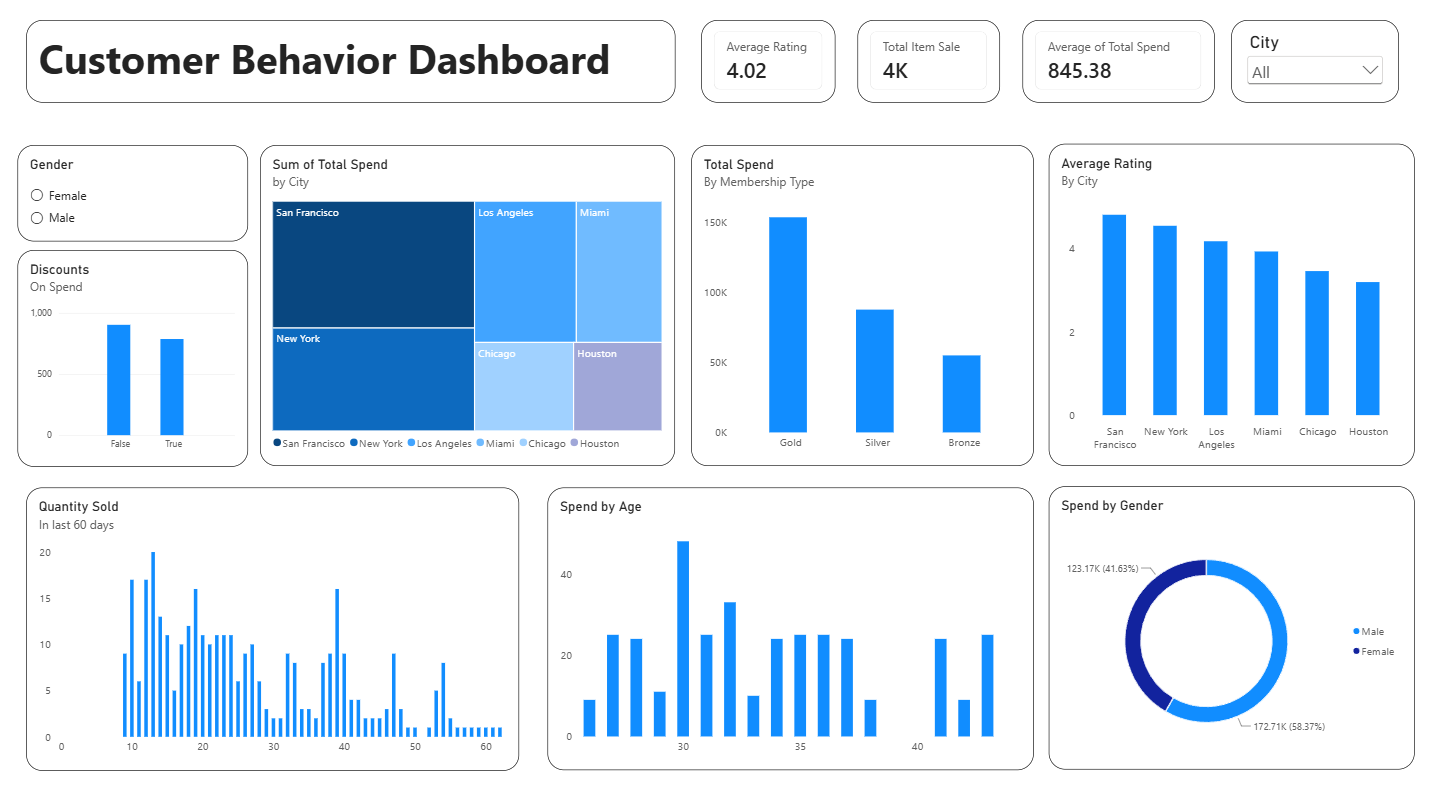

Layout of this report page (visuals, bound fields, positions):
{"tool":"powerbi","page":{"name":"Page 1","canvas":[1920,1080],"ordinal":0},"visuals":[{"type":"donutChart","title":"Spend by Gender","fields":{"Category":["E-commerce Customer Behavior - Sheet1.Gender"],"Y":["Sum(E-commerce Customer Behavior - Sheet1.Total Spend)"]},"box":[1400.7,663.4,488.6,378.2],"z":0},{"type":"clusteredColumnChart","title":"Spend by Age","fields":{"Y":["CountNonNull(E-commerce Customer Behavior - Sheet1.Total Spend)"],"Category":["E-commerce Customer Behavior - Sheet1.Age"]},"box":[731.4,664.6,649.5,377.4],"z":1000},{"type":"treemap","fields":{"Group":["E-commerce Customer Behavior - Sheet1.City"],"Values":["Sum(E-commerce Customer Behavior - Sheet1.Total Spend)"]},"box":[347.3,207.1,554.4,429.1],"z":2000},{"type":"columnChart","title":"Quantity Sold","fields":{"Category":["E-commerce Customer Behavior - Sheet1.Days Since Last Purchase"],"Y":["CountNonNull(E-commerce Customer Behavior - Sheet1.Items Purchased)"]},"box":[34.4,665.2,658.7,378.2],"z":3000},{"type":"listSlicer","fields":{"Values":["E-commerce Customer Behavior - Sheet1.Gender"]},"box":[23.5,206.3,307.6,128.5],"z":4000},{"type":"textbox","box":[35.1,40.1,813.2,110.2],"z":6000},{"type":"lineStackedColumnComboChart","title":"Total Spend ","fields":{"Category":["E-commerce Customer Behavior - Sheet1.Membership Type"],"Y":["Sum(E-commerce Customer Behavior - Sheet1.Total Spend)"]},"box":[923.4,207.1,457.5,429.1],"z":7000},{"type":"columnChart","title":"Average Rating","fields":{"Category":["E-commerce Customer Behavior - Sheet1.City"],"Y":["Avg(E-commerce Customer Behavior - Sheet1.Average Rating)"]},"box":[1400.7,205.6,488.6,430.7],"z":7001},{"type":"cardVisual","fields":{"Data":["Avg(E-commerce Customer Behavior - Sheet1.Average Rating)"]},"box":[937.4,39.8,179.2,110.4],"z":7002},{"type":"cardVisual","fields":{"Data":["Sum(E-commerce Customer Behavior - Sheet1.Items Purchased)"]},"box":[1145.5,39.8,190,110.4],"z":7003},{"type":"cardVisual","fields":{"Data":["Avg(E-commerce Customer Behavior - Sheet1.Total Spend)"]},"box":[1366.3,39.8,257,110.4],"z":7004},{"type":"slicer","fields":{"Values":["E-commerce Customer Behavior - Sheet1.City"]},"box":[1645,39.8,224.4,110.4],"z":7005},{"type":"columnChart","title":"Discounts","fields":{"Category":["E-commerce Customer Behavior - Sheet1.Discount Applied"],"Y":["Avg(E-commerce Customer Behavior - Sheet1.Total Spend)"]},"box":[23.5,347.5,307.6,289.5],"z":7006}]}

Visuals, with their boxes in screenshot pixels (x1, y1, x2, y2), scaled from the page's 1920x1080 canvas onto the 1436x797 screenshot:
"Spend by Gender" donutChart: (1048,490,1413,769)
"Spend by Age" clusteredColumnChart: (547,490,1033,769)
treemap - E-commerce Customer Behavior - Sheet1.City x Sum(E-commerce Customer Behavior - Sheet1.Total Spend): (260,153,674,469)
"Quantity Sold" columnChart: (26,491,518,770)
listSlicer - E-commerce Customer Behavior - Sheet1.Gender: (18,152,248,247)
textbox: (26,30,634,111)
"Total Spend " lineStackedColumnComboChart: (691,153,1033,469)
"Average Rating" columnChart: (1048,152,1413,470)
cardVisual - Avg(E-commerce Customer Behavior - Sheet1.Average Rating): (701,29,835,111)
cardVisual - Sum(E-commerce Customer Behavior - Sheet1.Items Purchased): (857,29,999,111)
cardVisual - Avg(E-commerce Customer Behavior - Sheet1.Total Spend): (1022,29,1214,111)
slicer - E-commerce Customer Behavior - Sheet1.City: (1230,29,1398,111)
"Discounts" columnChart: (18,256,248,470)
